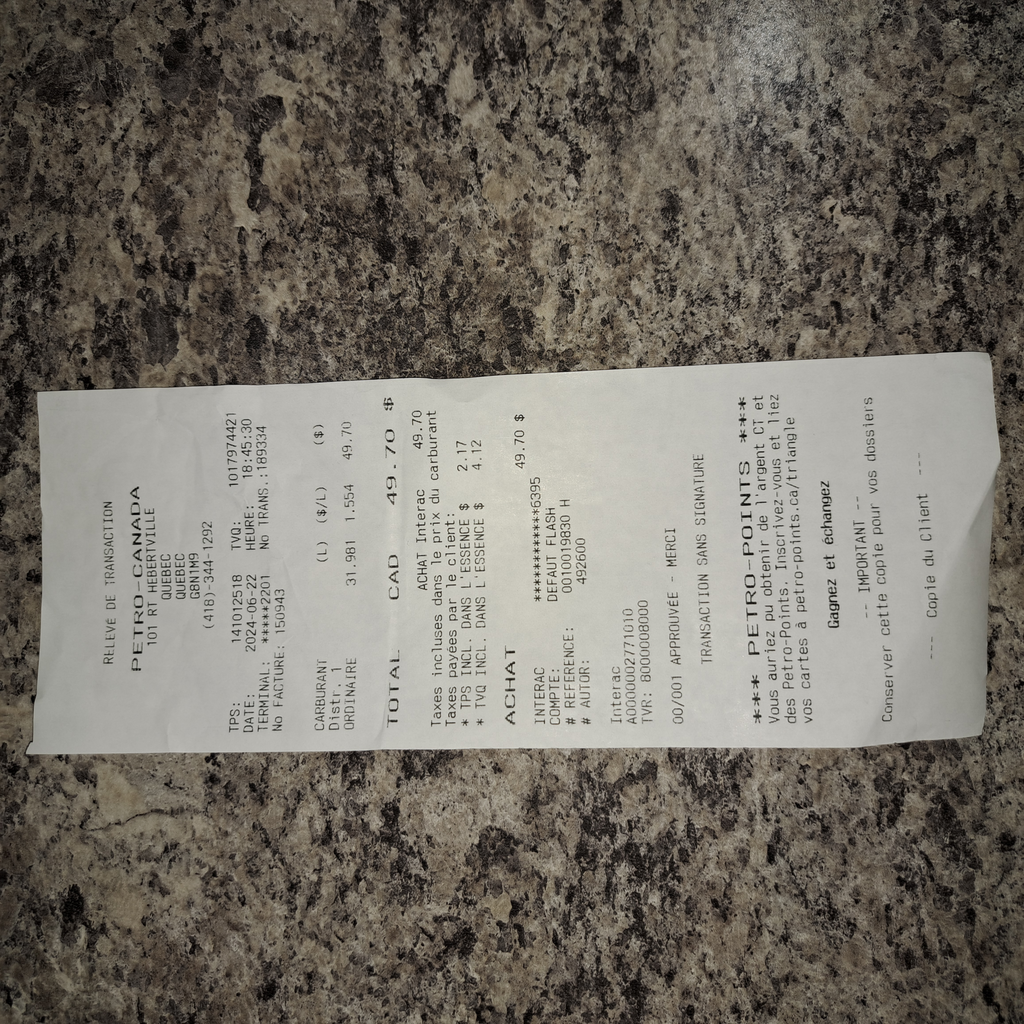recipt: (27, 352, 997, 757)
